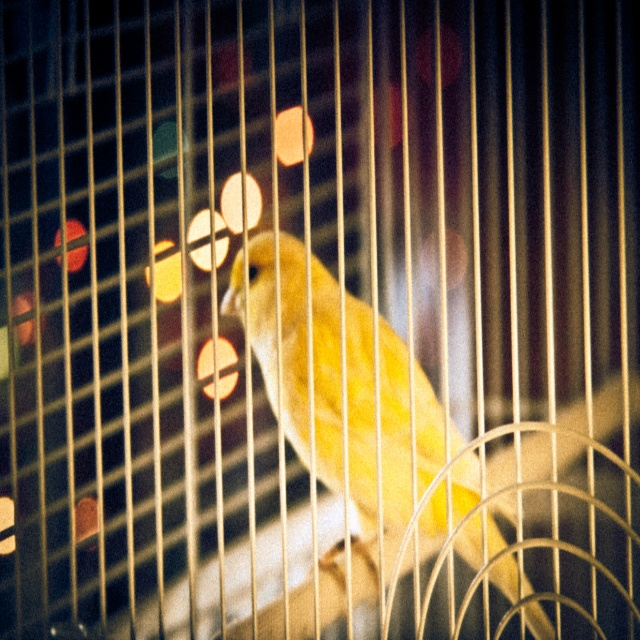Canary: (220, 229, 555, 639)
